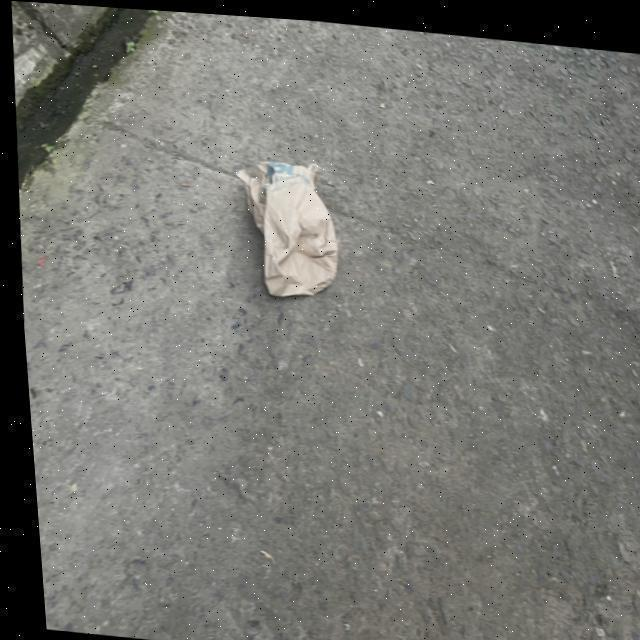Paper_Bag: (232, 151, 344, 303)
